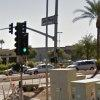Traffic light: (4, 17, 36, 70)
